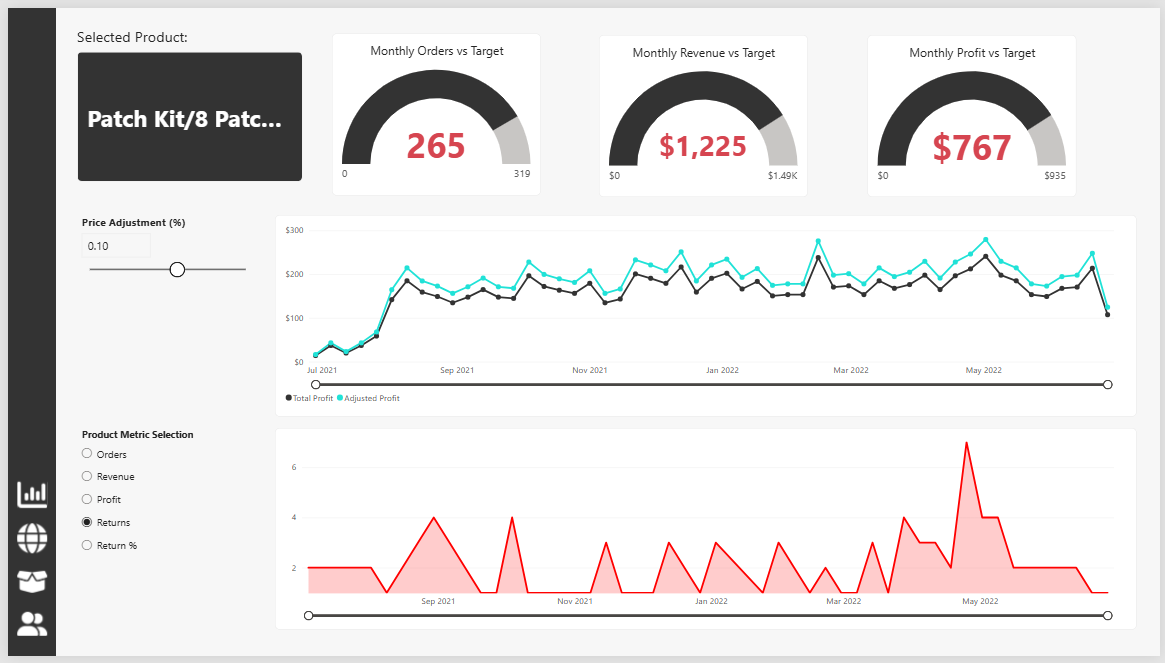

What the dashboard file says about the page in this screenshot:
{"tool":"powerbi","page":{"name":"Product Detail","canvas":[1920,1080],"ordinal":2},"visuals":[{"type":"shape","box":[0,0,80,1080],"z":0},{"type":"actionButton","box":[0,774,80,72],"z":0,"group":"g1"},{"type":"gauge","title":"Monthly Orders vs Target","fields":{"MaxValue":["Measure Table.Order Target"],"Y":["Measure Table.Total Orders"]},"box":[539,43.7,348,270],"z":1000},{"type":"actionButton","box":[0,846,80,72],"z":1000,"group":"g1"},{"type":"gauge","title":"Monthly Revenue vs Target","fields":{"MaxValue":["Measure Table.Revenue Target"],"Y":["Measure Table.Total Revenue"]},"box":[986,45.7,348,270],"z":2000},{"type":"actionButton","box":[0,918,80,72],"z":2000,"group":"g1"},{"type":"gauge","title":"Monthly Profit vs Target","fields":{"MaxValue":["Measure Table.Profit Target"],"Y":["Measure Table.Total Profit"]},"box":[1433,45.7,348,270],"z":3000},{"type":"actionButton","box":[0,990,80,72],"z":3000,"group":"g1"},{"type":"lineChart","title":"Profit Trending","fields":{"Category":["Calendar Lookup.Date Hierarchy.Start of year","Calendar Lookup.Date Hierarchy.Start of month","Calendar Lookup.Date Hierarchy.Start of week","Calendar Lookup.Date Hierarchy.Date"],"Y":["Measure Table.Total Profit","Measure Table.Adjusted Profit"]},"box":[444,346,1436,336],"z":4000},{"type":"areaChart","title":"Return Trending","fields":{"Category":["Calendar Lookup.Date Hierarchy.Start of year","Calendar Lookup.Date Hierarchy.Start of month","Calendar Lookup.Date Hierarchy.Start of week","Calendar Lookup.Date Hierarchy.Date"],"Y":["Measure Table.Total Returns"]},"box":[444,700,1436,336],"z":5000},{"type":"cardVisual","fields":{"Data":["Min(Product Lookup.ProductName)"]},"box":[113.9,71.4,377,217.1],"z":6000},{"type":"textbox","box":[113.9,30.9,300.6,83.5],"z":7000},{"type":"group","id":"g1","title":"Navigation Buttons","box":[0,774,80,288],"z":8000},{"type":"slicer","fields":{"Values":["Price Adjustment (%).Price Adjustment (%)"]},"box":[114,346,300,168],"z":9000},{"type":"slicer","fields":{"Values":["Product Metric Selection.Product Metric Selection"]},"box":[114,700,300,222],"z":10000}]}

Visuals, with their boxes on the page's 1920x1080 design canvas (x1, y1, x2, y2). These are canvas units, not pixel positions in the 1165x663 screenshot, which may show the page scaled, cropped or inside an application window:
shape: 0, 0, 80, 1080
actionButton: 0, 774, 80, 846
"Monthly Orders vs Target" gauge: 539, 44, 887, 314
actionButton: 0, 846, 80, 918
"Monthly Revenue vs Target" gauge: 986, 46, 1334, 316
actionButton: 0, 918, 80, 990
"Monthly Profit vs Target" gauge: 1433, 46, 1781, 316
actionButton: 0, 990, 80, 1062
"Profit Trending" lineChart: 444, 346, 1880, 682
"Return Trending" areaChart: 444, 700, 1880, 1036
cardVisual - Min(Product Lookup.ProductName): 114, 71, 491, 288
textbox: 114, 31, 414, 114
"Navigation Buttons" group: 0, 774, 80, 1062
slicer - Price Adjustment (%).Price Adjustment (%): 114, 346, 414, 514
slicer - Product Metric Selection.Product Metric Selection: 114, 700, 414, 922
